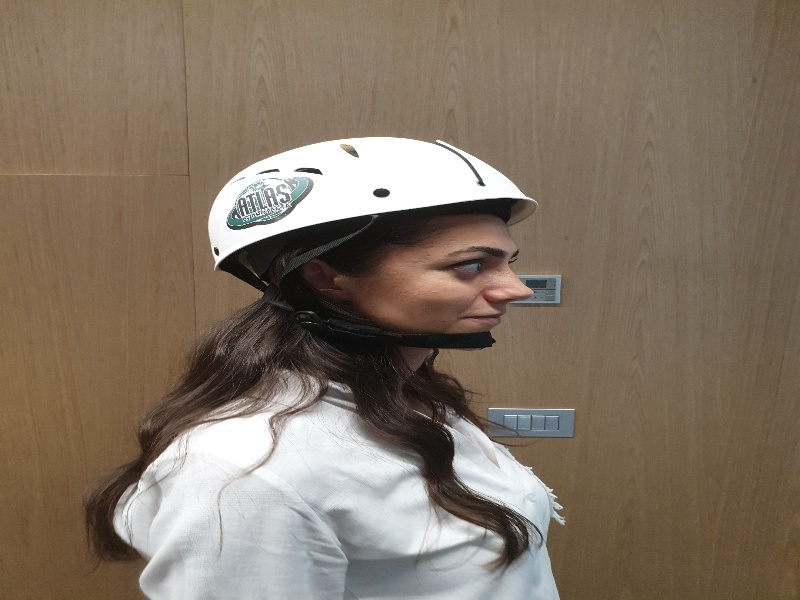Baret: (207, 137, 541, 265)
